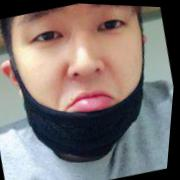WRONG: (1, 1, 168, 161)
